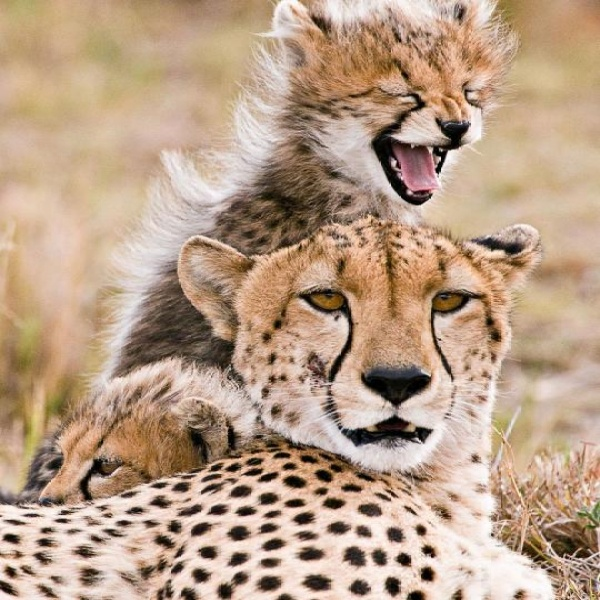Cheetah: (2, 208, 567, 600), (202, 5, 511, 221)
